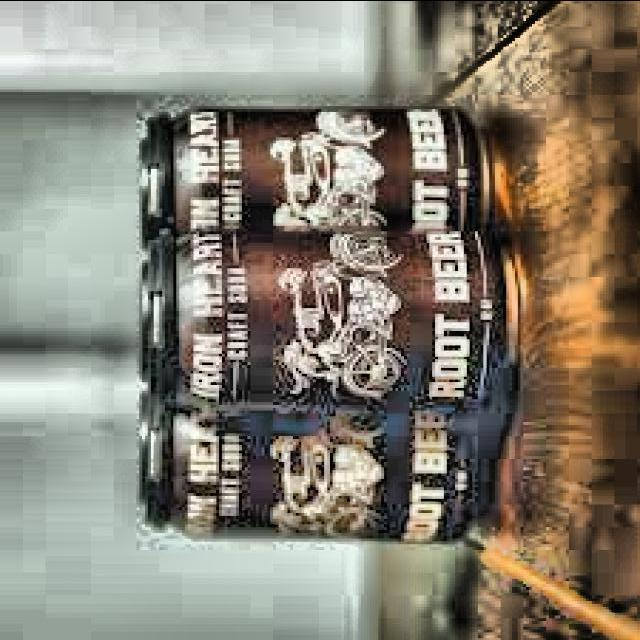litter: (136, 223, 523, 416), (136, 101, 498, 252), (132, 400, 496, 545)
